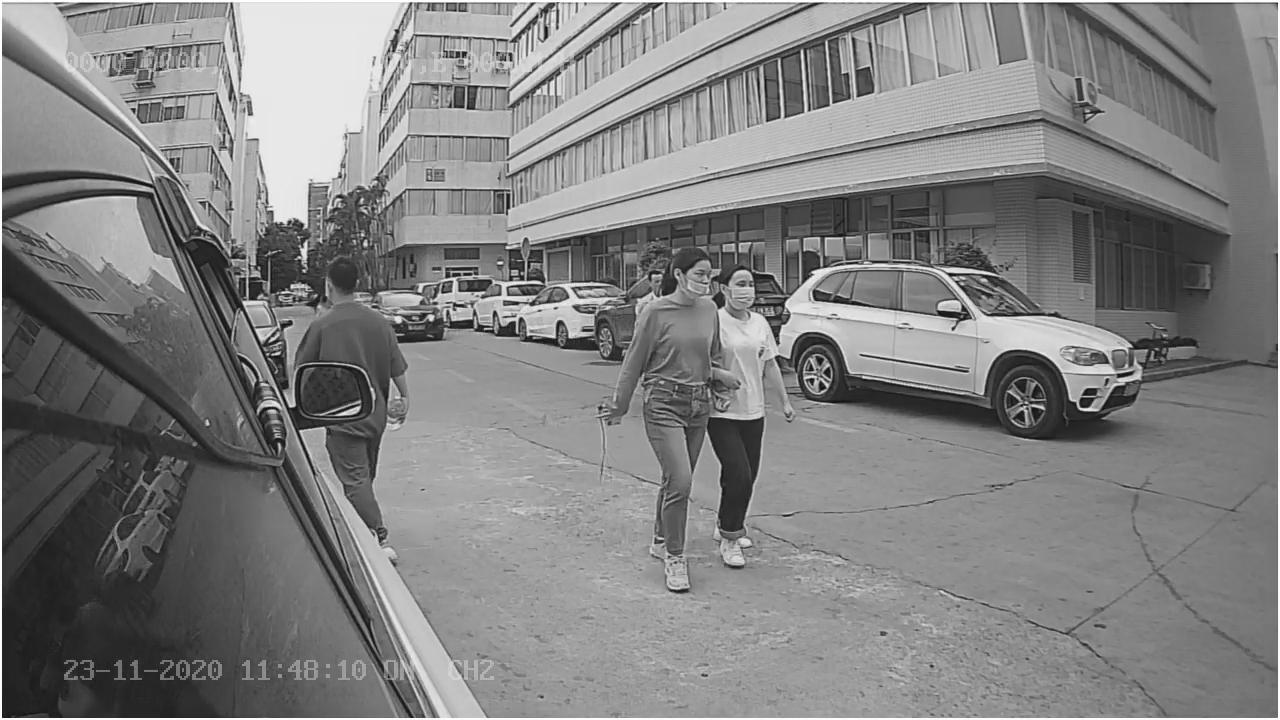person: (599, 242, 726, 587)
